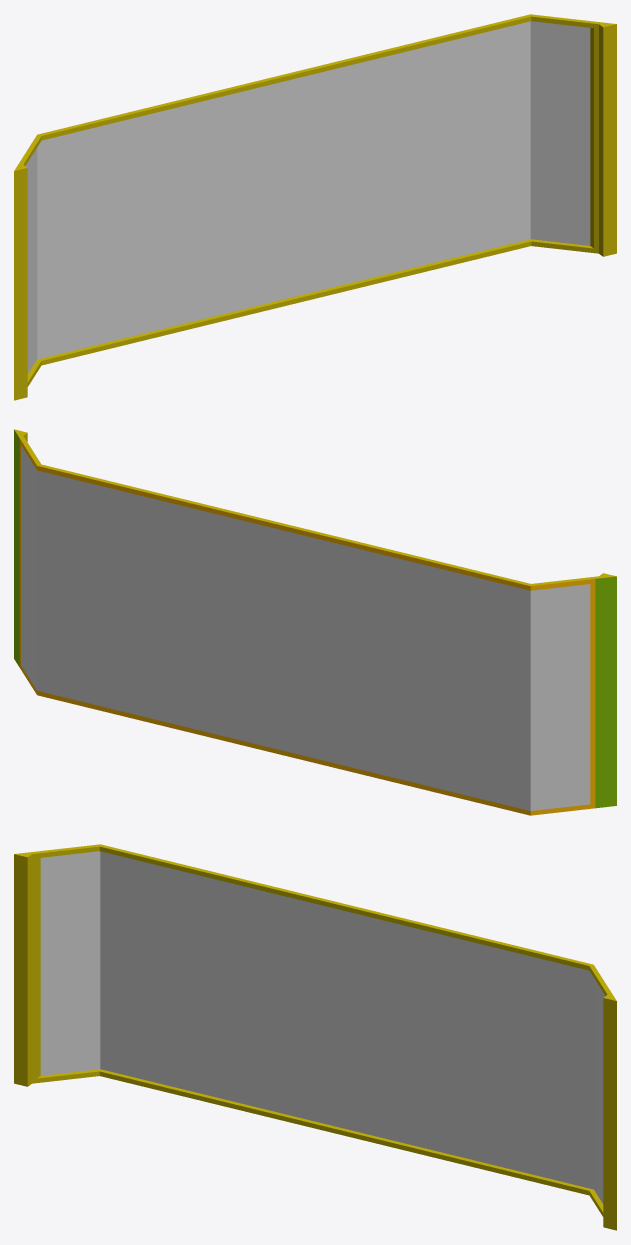
The model's file is window_panoramic_11x1x4.dae.
3 renders of one model, top to bottom at view 1: azimuth 30°, elevation 25°; view 2: azimuth 150°, elevation 25°; view 3: azimuth 330°, elevation 25°, orthographic.
Visible parts, largest first — view 1: Cube; view 2: Cube; view 3: Cube.
Boxes of the visible parts, x1=… form: Cube: x1=14, y1=14, x2=616, y2=400; Cube: x1=14, y1=429, x2=616, y2=815; Cube: x1=14, y1=844, x2=616, y2=1230.
Size of the model in its own units: 2.75 by 0.25 by 1.
